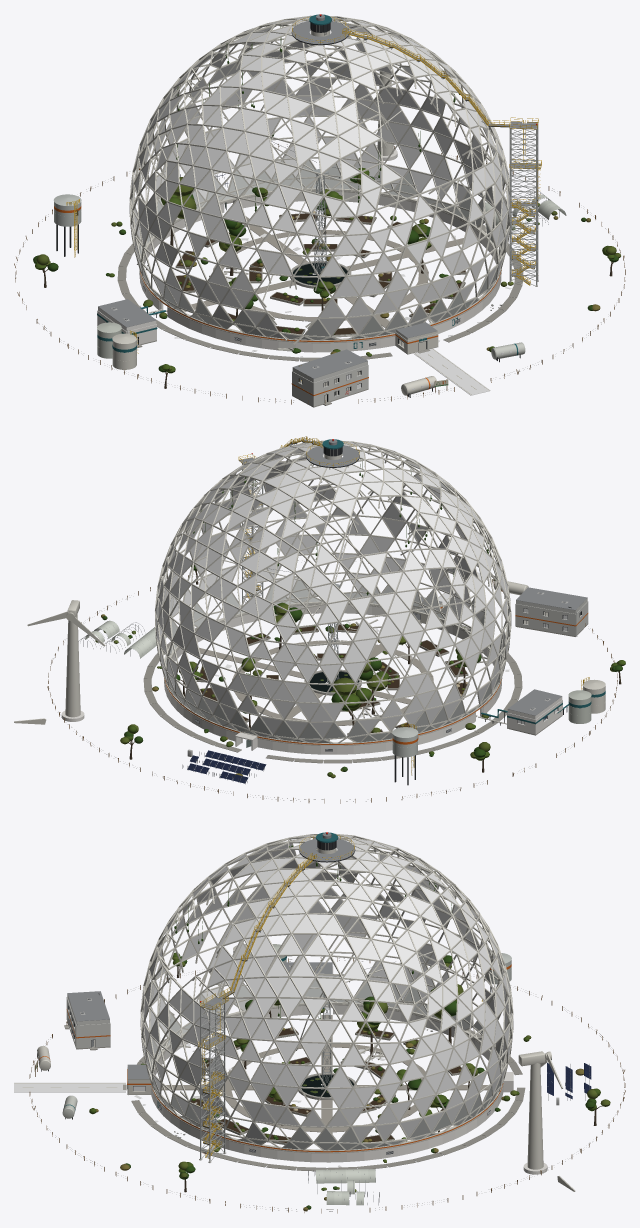
Rendered from biodome.glb.
The picture shows the model from 3 angles, top to bottom: view 1: azimuth 30°, elevation 25°; view 2: azimuth 150°, elevation 25°; view 3: azimuth 270°, elevation 25°; orthographic projection. The views are drawn at different scales.
Parts seen in each view (by area): view 1: C0_0_lod0, C-1_-1_lod0, C0_-1_lod0, C-1_0_lod0, C-1_-2_lod0, C-2_-1_lod0, C0_-2_lod0, C-2_0_lod0, C1_0_lod0, C1_-1_lod0; view 2: C0_0_lod0, C-1_0_lod0, C0_-1_lod0, C-1_-1_lod0, C-2_-1_lod0, C-1_-2_lod0, C-2_0_lod0, C0_1_lod0, C-1_1_lod0, C1_1_lod0, C1_0_lod0, C0_-2_lod0; view 3: C0_0_lod0, C0_-1_lod0, C-1_0_lod0, C-1_-1_lod0, C-1_-2_lod0, C0_-2_lod0, C1_0_lod0, C1_1_lod0, C1_-1_lod0, C0_1_lod0, C-2_0_lod0, C-1_1_lod0 (+1 smaller).
Part boxes in pixels (x1,y1,x2,y2): C0_0_lod0: (131, 14, 509, 342); C-1_-1_lod0: (163, 24, 413, 361); C0_-1_lod0: (319, 23, 541, 333); C-1_0_lod0: (77, 17, 348, 310); C-1_-2_lod0: (291, 220, 471, 407); C-2_-1_lod0: (59, 202, 213, 393); C0_-2_lod0: (396, 220, 598, 395); C-2_0_lod0: (14, 192, 164, 336); C1_0_lod0: (441, 107, 579, 232); C1_-1_lod0: (480, 119, 625, 288); C0_0_lod0: (143, 439, 509, 744); C-1_0_lod0: (244, 442, 486, 776); C0_-1_lod0: (187, 436, 427, 666); C-1_-1_lod0: (332, 445, 522, 716); C-2_-1_lod0: (480, 606, 625, 741); C-1_-2_lod0: (418, 515, 592, 636); C-2_0_lod0: (392, 614, 574, 793); C0_1_lod0: (71, 633, 257, 787); C-1_1_lod0: (204, 633, 396, 803); C1_1_lod0: (14, 600, 105, 728); C1_0_lod0: (47, 534, 186, 696); C0_-2_lod0: (306, 509, 489, 623); C0_0_lod0: (142, 832, 511, 1162); C0_-1_lod0: (144, 841, 337, 1162); C-1_0_lod0: (299, 833, 506, 1081); C-1_-1_lod0: (147, 834, 330, 1087); C-1_-2_lod0: (14, 962, 150, 1083); C0_-2_lod0: (14, 970, 156, 1160); C1_0_lod0: (323, 1043, 504, 1213); C1_1_lod0: (517, 1051, 575, 1191); C1_-1_lod0: (152, 1007, 339, 1213); C0_1_lod0: (497, 973, 625, 1161); C-2_0_lod0: (315, 898, 511, 1009); C-1_1_lod0: (504, 966, 624, 1085).
Size of what is drawn, in the model's own units: 160 by 76.63 by 164.
